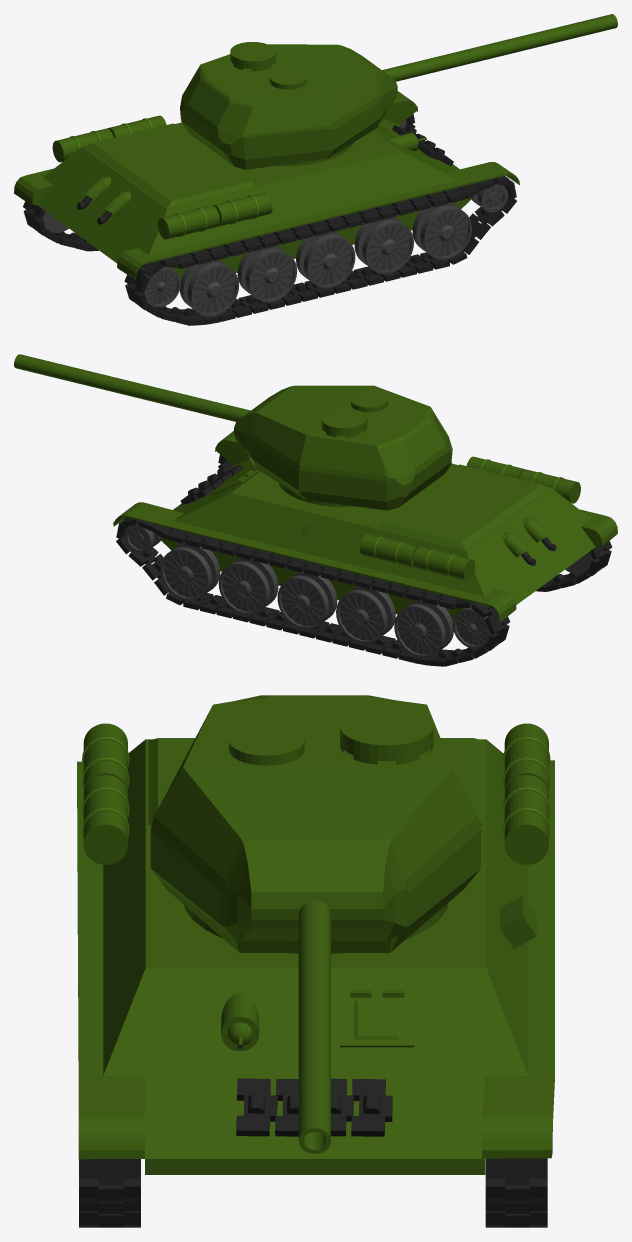
File: tank.fbx
The picture shows the model from 3 angles, top to bottom: view 1: azimuth 30°, elevation 25°; view 2: azimuth 150°, elevation 25°; view 3: azimuth 270°, elevation 25°; orthographic projection. The views are drawn at different scales.
Parts seen in each view (by area): view 1: Cube, Cube.001, Cylinder, Cube.002, Cylinder.018, Cylinder.014, Cylinder.015, Cylinder.016, Cylinder.017, Cylinder.001; view 2: Cube, Cube.001, Cylinder, Cube.002, Cylinder.018, Cylinder.016, Cylinder.017, Cylinder.014, Cylinder.015, Cylinder.001; view 3: Cube, Cube.001, Cube.002, Cylinder.018, Cylinder.015, Cylinder.017, Cylinder.014, Cylinder.016, Cylinder.001.
Part boxes in pixels (<box>): Cube: <box>14,91,519,279</box>; Cube.001: <box>180,42,397,169</box>; Cylinder: <box>42,119,507,316</box>; Cube.002: <box>23,114,516,325</box>; Cylinder.018: <box>382,14,617,81</box>; Cylinder.014: <box>158,205,219,239</box>; Cylinder.015: <box>213,192,272,226</box>; Cylinder.016: <box>52,128,113,162</box>; Cylinder.017: <box>107,115,166,137</box>; Cylinder.001: <box>70,118,258,236</box>; Cube: <box>113,431,617,622</box>; Cube.001: <box>234,385,452,510</box>; Cylinder: <box>124,460,592,657</box>; Cube.002: <box>116,454,612,666</box>; Cylinder.018: <box>14,354,250,421</box>; Cylinder.016: <box>413,547,475,580</box>; Cylinder.017: <box>360,534,419,567</box>; Cylinder.014: <box>519,469,580,503</box>; Cylinder.015: <box>466,456,525,478</box>; Cylinder.001: <box>373,459,563,578</box>; Cube: <box>77,738,554,1174</box>; Cube.001: <box>150,695,480,952</box>; Cube.002: <box>79,1078,547,1227</box>; Cylinder.018: <box>298,900,330,1153</box>; Cylinder.015: <box>83,775,127,864</box>; Cylinder.017: <box>504,775,548,864</box>; Cylinder.014: <box>83,723,127,792</box>; Cylinder.016: <box>504,723,548,792</box>; Cylinder.001: <box>82,737,550,838</box>.
Bounding box in the file's own units: 4.69 × 1.56 × 1.8.
